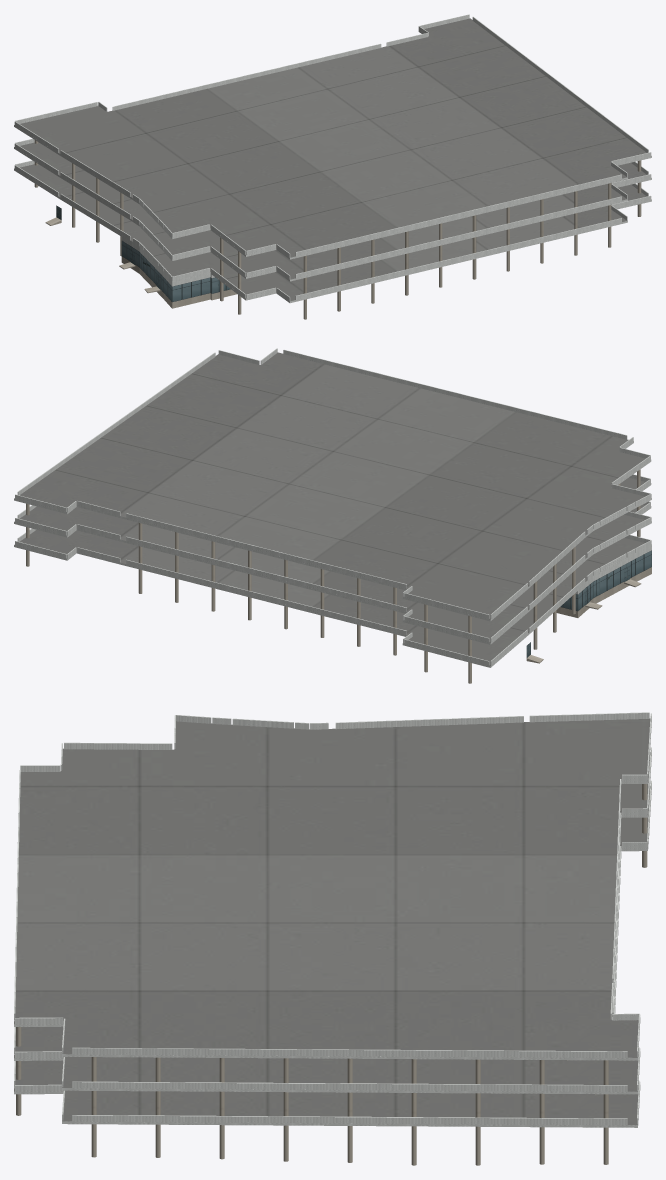
The model's file is parking_structure_3.glb.
3 renders of one model, top to bottom at view 1: azimuth 30°, elevation 25°; view 2: azimuth 150°, elevation 25°; view 3: azimuth 270°, elevation 25°, orthographic. The views are drawn at different scales.
Visible parts, largest first — view 1: parking_structure_3_CampusAtlas_facade.038, parking_structure_3_CampusAtlas_glass.038; view 2: parking_structure_3_CampusAtlas_facade.038, parking_structure_3_CampusAtlas_glass.038; view 3: parking_structure_3_CampusAtlas_facade.038.
Part boxes in pixels (x1=…): parking_structure_3_CampusAtlas_facade.038: x1=14, y1=14, x2=651, y2=319; parking_structure_3_CampusAtlas_glass.038: x1=56, y1=205, x2=230, y2=302; parking_structure_3_CampusAtlas_facade.038: x1=14, y1=348, x2=651, y2=683; parking_structure_3_CampusAtlas_glass.038: x1=526, y1=550, x2=651, y2=657; parking_structure_3_CampusAtlas_facade.038: x1=14, y1=712, x2=651, y2=1165.
Bounding box in the file's own units: 98.42 × 15.42 × 76.93.
2 materials, 2 textured.
